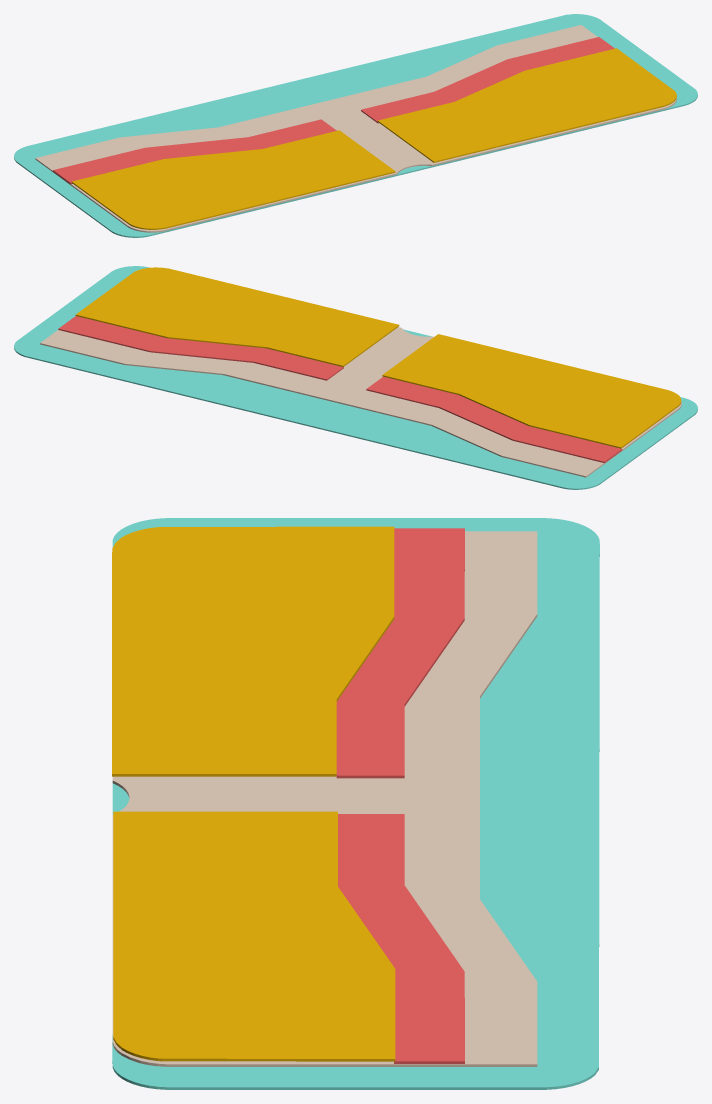
Rendered from WALLET.glb.
3 renders of one model, top to bottom at view 1: azimuth 30°, elevation 25°; view 2: azimuth 150°, elevation 25°; view 3: azimuth 270°, elevation 25°, orthographic. The views are drawn at different scales.
Visible parts, largest first — view 1: BACK_PANEL, CARD_HOLDER_3, CARD_HOLDER_4, MONEY_POCKET, CARD_HOLDER_1, CARD_HOLDER_2; view 2: BACK_PANEL, CARD_HOLDER_4, CARD_HOLDER_3, MONEY_POCKET, CARD_HOLDER_2, CARD_HOLDER_1; view 3: BACK_PANEL, CARD_HOLDER_4, CARD_HOLDER_3, MONEY_POCKET, CARD_HOLDER_1, CARD_HOLDER_2.
Boxes of the visible parts, x1,y1,x2,y2 form: BACK_PANEL: (14, 14, 697, 237); CARD_HOLDER_3: (71, 130, 395, 229); CARD_HOLDER_4: (377, 48, 676, 162); MONEY_POCKET: (35, 25, 676, 232); CARD_HOLDER_1: (53, 119, 336, 184); CARD_HOLDER_2: (361, 37, 614, 123); BACK_PANEL: (14, 266, 697, 489); CARD_HOLDER_4: (75, 267, 399, 366); CARD_HOLDER_3: (382, 334, 681, 448); MONEY_POCKET: (40, 327, 681, 477); CARD_HOLDER_2: (58, 316, 343, 380); CARD_HOLDER_1: (366, 376, 622, 462); BACK_PANEL: (112, 518, 599, 1089); CARD_HOLDER_4: (113, 811, 395, 1061); CARD_HOLDER_3: (112, 526, 394, 776); MONEY_POCKET: (112, 531, 537, 1066); CARD_HOLDER_1: (336, 528, 464, 778); CARD_HOLDER_2: (338, 814, 464, 1063).
Size of the model in its own units: 2.35 by 0.02 by 0.8515.
